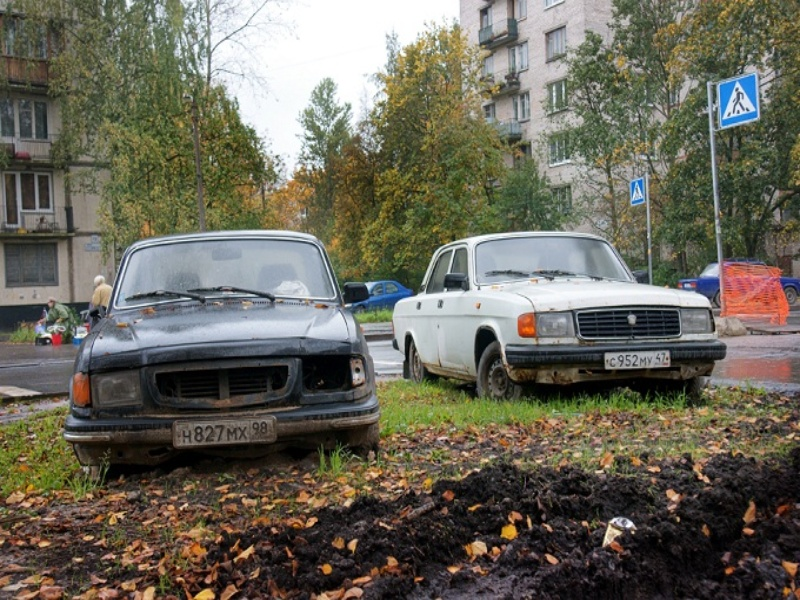car: (62, 230, 379, 465), (392, 230, 728, 400), (676, 263, 800, 307), (343, 281, 412, 314)
person: (88, 273, 112, 311), (38, 298, 73, 322)
plate: (174, 416, 273, 449), (605, 351, 669, 368)
